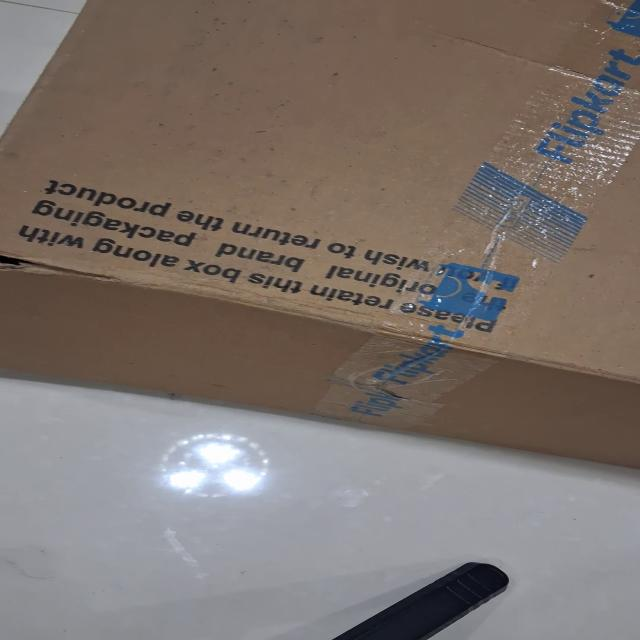paper: (2, 1, 638, 638)
